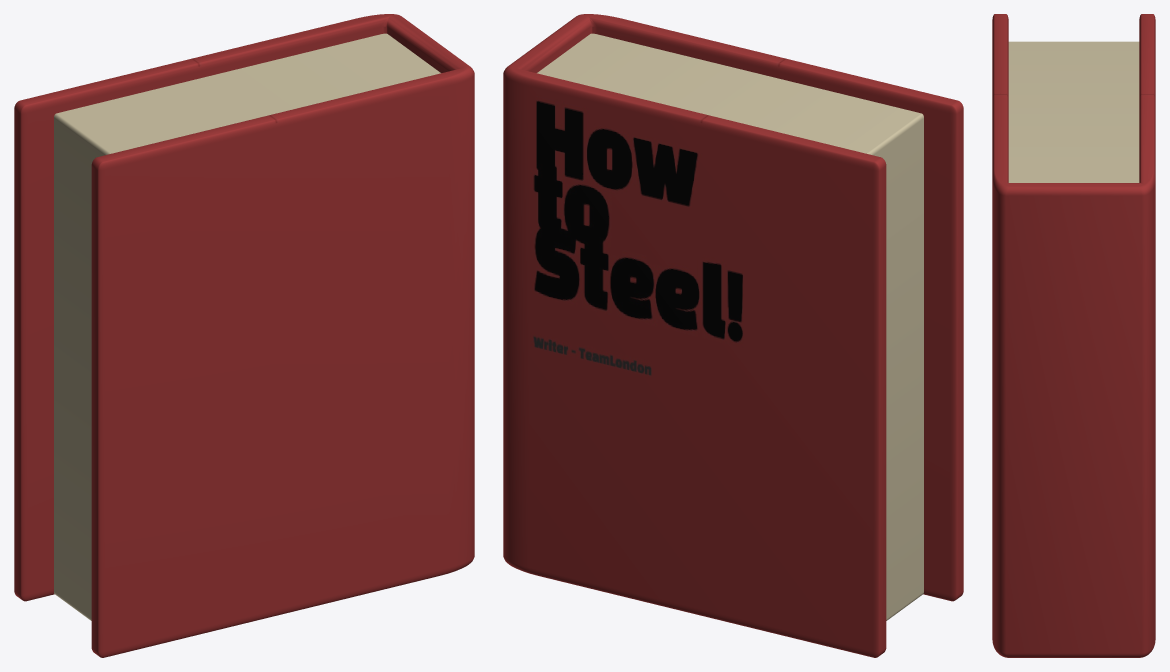
File: Book1.fbx
3 views of the same model, side by side, from view 1: azimuth 30°, elevation 25°; view 2: azimuth 150°, elevation 25°; view 3: azimuth 270°, elevation 25° (orthographic). The views are drawn at different scales.
Parts seen in each view (by area): view 1: Cube.002; view 2: Cube.002; view 3: Cube.002.
Boxes of the visible parts, box(x1,y1,x2,y2) form: Cube.002: box(14, 14, 474, 657); Cube.002: box(503, 14, 963, 657); Cube.002: box(992, 14, 1155, 657).
Size of the model in its own units: 98.72 by 123 by 38.47.
